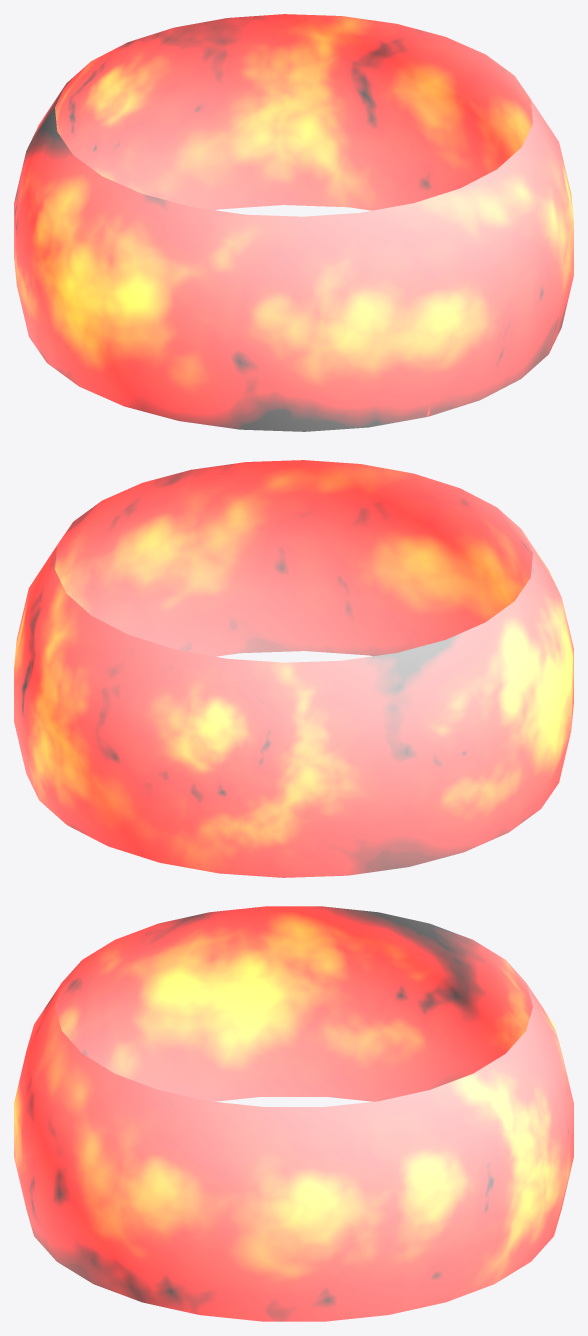
Rendered from explosion.fbx.
3 views of the same model, one above another, from view 1: azimuth 30°, elevation 25°; view 2: azimuth 150°, elevation 25°; view 3: azimuth 270°, elevation 25° (orthographic).
Visible parts, largest first — view 1: Explosion; view 2: Explosion; view 3: Explosion.
Part boxes in pixels (x1,y1,x2,y2): Explosion: [14, 14, 573, 431]; Explosion: [14, 460, 573, 877]; Explosion: [14, 906, 573, 1321].
Bounding box in the file's own units: 0.7861 × 0.3159 × 0.7919.
